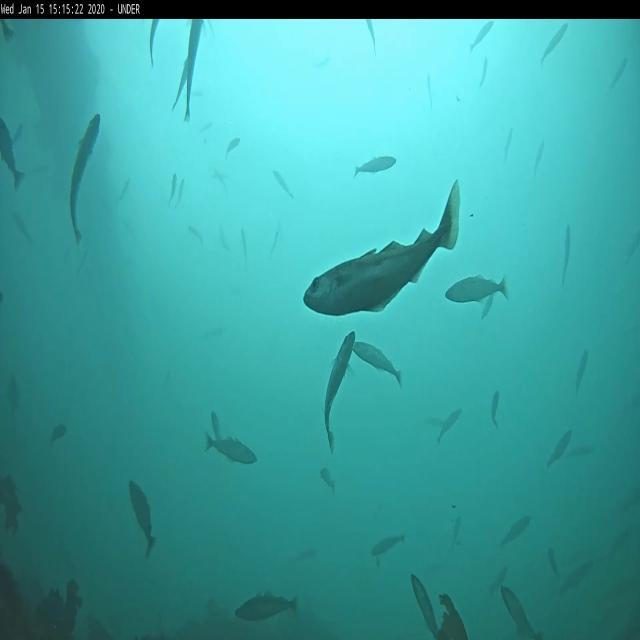fish: (303, 183, 465, 315), (69, 112, 101, 245), (326, 331, 356, 453), (356, 339, 405, 389), (182, 20, 205, 119), (444, 276, 514, 307), (129, 478, 156, 558), (204, 432, 258, 468), (500, 587, 536, 639), (0, 118, 25, 190), (234, 596, 298, 622), (558, 558, 594, 600), (539, 22, 568, 63), (174, 54, 194, 108), (500, 514, 532, 546), (354, 154, 397, 177), (436, 407, 462, 444), (546, 430, 572, 466), (370, 534, 404, 558), (468, 22, 494, 52), (487, 566, 510, 598), (273, 167, 294, 198), (576, 348, 588, 396), (563, 223, 571, 288), (149, 18, 159, 66), (534, 140, 546, 178), (611, 58, 627, 86), (49, 423, 68, 445), (367, 20, 378, 55), (547, 548, 560, 577), (320, 466, 334, 492), (117, 178, 130, 204), (452, 513, 460, 555), (211, 411, 220, 448), (492, 391, 500, 428), (187, 224, 203, 242), (226, 138, 240, 157), (504, 130, 512, 163), (271, 226, 279, 258), (1, 22, 14, 40), (478, 58, 486, 86), (176, 178, 184, 206), (426, 72, 433, 103), (170, 173, 177, 203), (241, 226, 246, 259)
